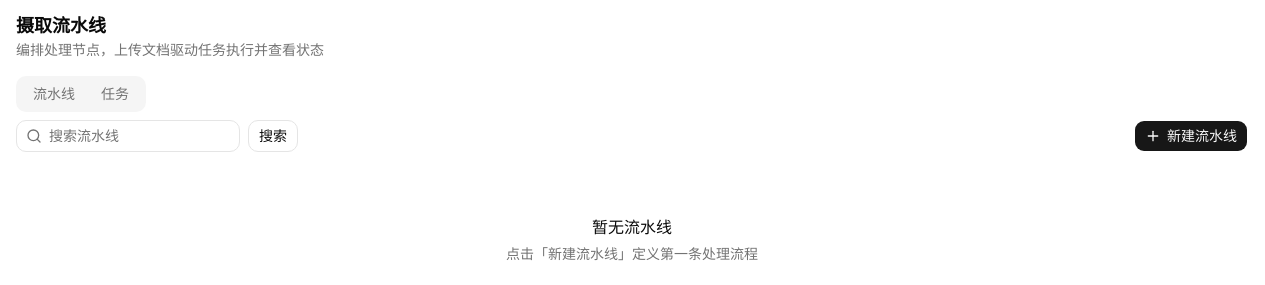
Test: IngestionPage › 切换到任务 Tab 渲染任务行
Check: the text "暂无流水线" is shown, box x1=592 y1=216 x2=672 y2=240
Click the tab "任务" at [115, 94], box x1=88 y1=80 x2=142 y2=108
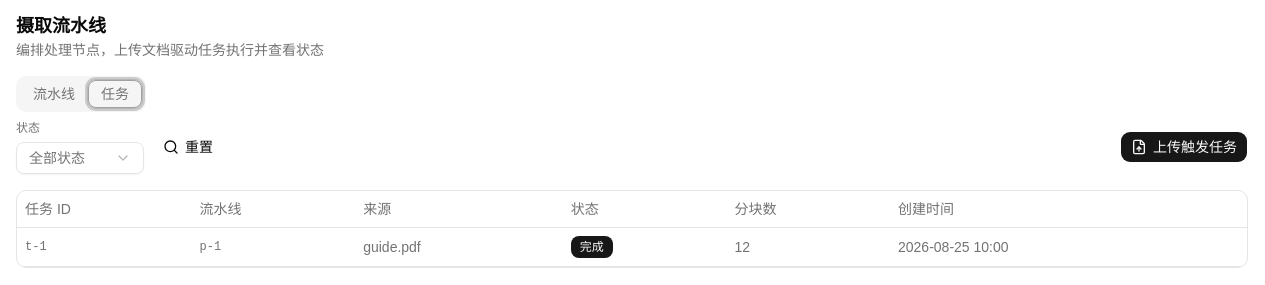
Check: the text "guide.pdf" is shown, box x1=363 y1=238 x2=421 y2=254
Check: the text "完成" is shown, box x1=571 y1=236 x2=613 y2=258
